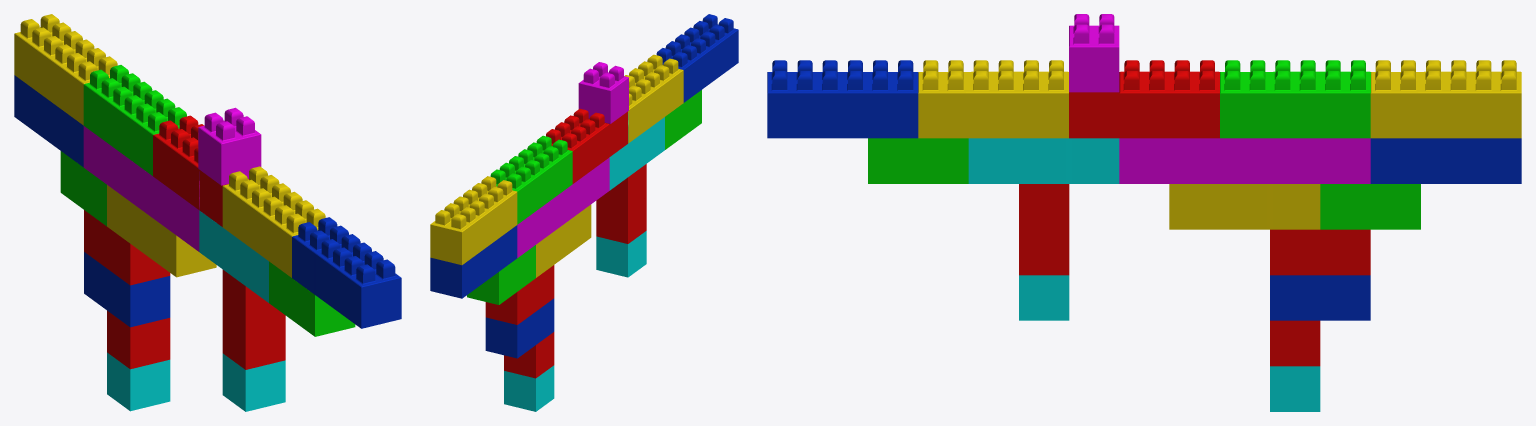
File: uzi.fbx
The picture shows the model from 3 angles, left to right: view 1: azimuth 30°, elevation 25°; view 2: azimuth 150°, elevation 25°; view 3: azimuth 270°, elevation 25°; orthographic projection. The views are drawn at different scales.
Visible parts, largest first — view 1: klocekx5:klocekx3, klocekx51, klocekx53, klocekx6, klocekx62, klocekx47, klocekx13, klocekx78, klocekx48, klocekx57, klocekx7:klocekx3, klocekx2 (+9 smaller); view 2: klocekx53, klocekx51, klocekx5:klocekx3, klocekx6, klocekx57, klocekx78, klocekx47, klocekx13, klocekx67, klocekx7:klocekx3, klocekx48, klocekx62 (+9 smaller); view 3: klocekx53, klocekx5:klocekx3, klocekx51, klocekx6, klocekx78, klocekx62, klocekx48, klocekx7:klocekx3, klocekx57, klocekx67, klocekx2, klocekx13 (+9 smaller).
Part boxes in pixels (x1,y1,x2,y2): klocekx5:klocekx3: [292, 217, 401, 328]; klocekx51: [83, 65, 186, 175]; klocekx53: [14, 14, 117, 125]; klocekx6: [222, 166, 325, 277]; klocekx62: [107, 185, 216, 277]; klocekx47: [198, 107, 261, 185]; klocekx13: [84, 252, 170, 327]; klocekx78: [153, 115, 203, 209]; klocekx48: [130, 160, 199, 251]; klocekx57: [14, 75, 83, 167]; klocekx7:klocekx3: [199, 210, 268, 302]; klocekx2: [269, 261, 355, 336]; klocekx53: [430, 176, 517, 265]; klocekx51: [490, 135, 572, 224]; klocekx5:klocekx3: [656, 14, 738, 102]; klocekx6: [624, 54, 683, 143]; klocekx57: [430, 225, 517, 298]; klocekx78: [546, 108, 609, 183]; klocekx47: [578, 62, 628, 123]; klocekx13: [485, 298, 554, 358]; klocekx67: [485, 265, 554, 324]; klocekx7:klocekx3: [609, 113, 664, 190]; klocekx48: [554, 157, 609, 230]; klocekx62: [536, 204, 591, 277]; klocekx53: [1370, 60, 1521, 138]; klocekx5:klocekx3: [767, 60, 918, 138]; klocekx51: [1220, 60, 1370, 138]; klocekx6: [918, 60, 1068, 138]; klocekx78: [1119, 60, 1219, 138]; klocekx62: [1169, 184, 1320, 229]; klocekx48: [1119, 138, 1270, 183]; klocekx7:klocekx3: [968, 138, 1119, 183]; klocekx57: [1370, 138, 1521, 183]; klocekx67: [1270, 229, 1370, 275]; klocekx2: [868, 138, 968, 183]; klocekx13: [1270, 275, 1370, 320].
Bounding box in the file's own units: 3.1 × 25 × 44.98.
